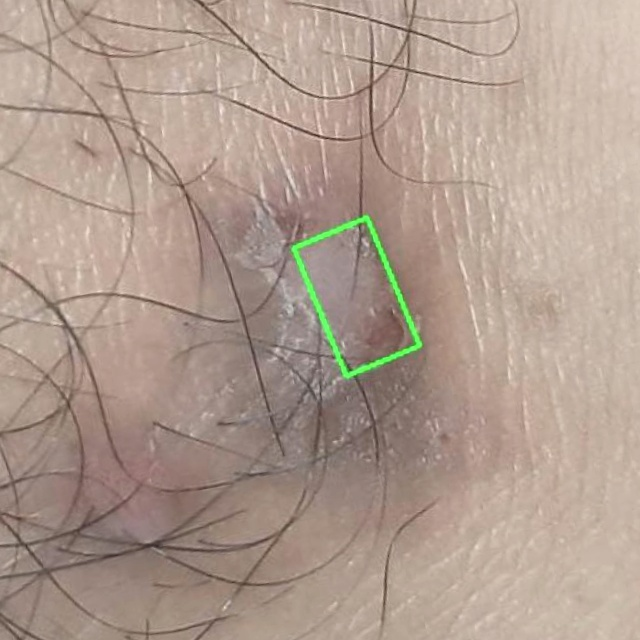Eczema: (292, 217, 419, 376)
